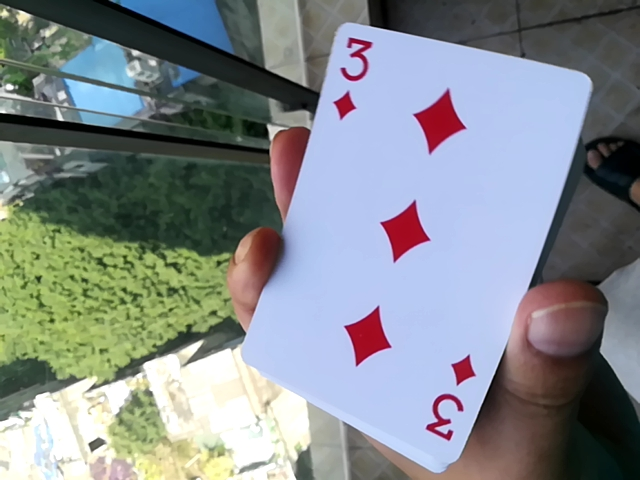fk 3: (231, 21, 603, 467)
